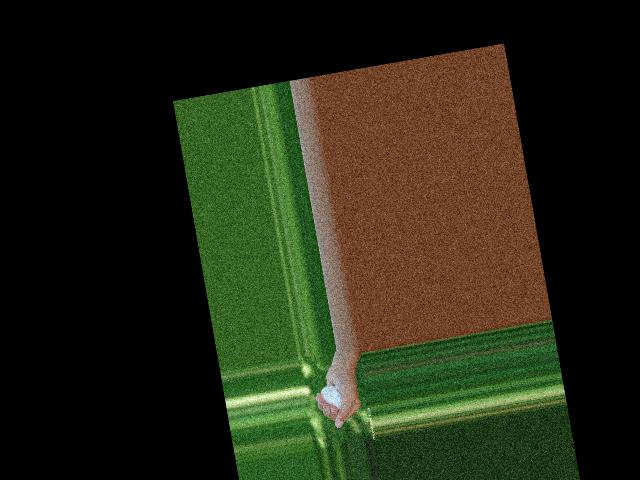egg: (319, 384, 343, 412)
